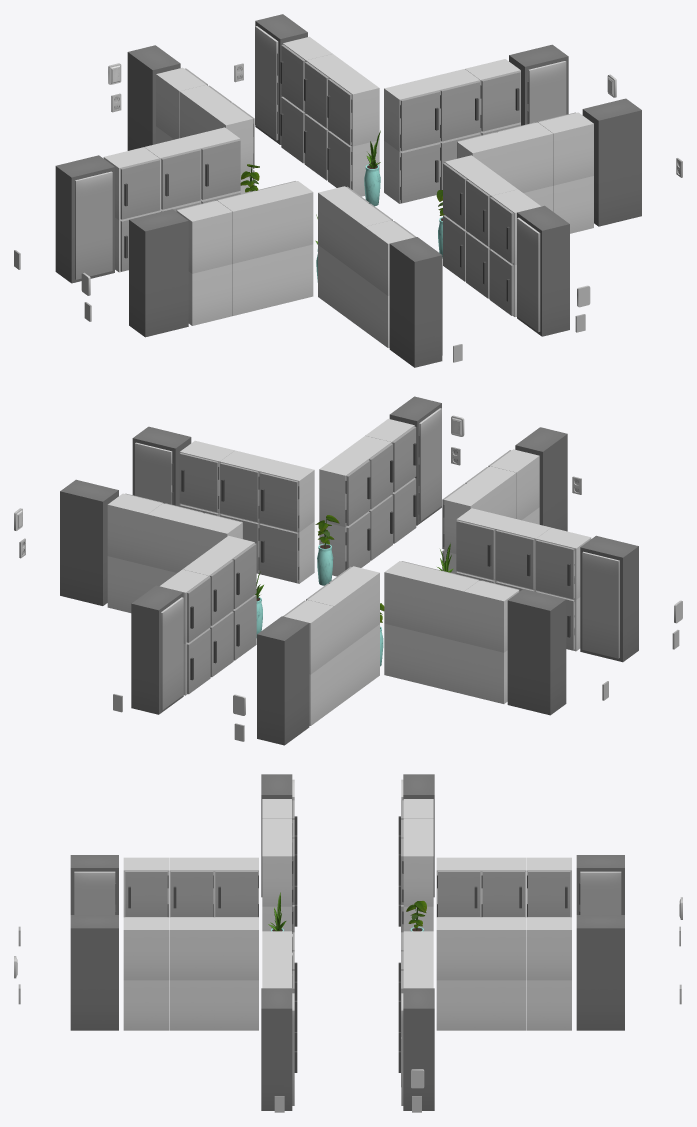
Rendered from Room14Set0.FBX.
The picture shows the model from 3 angles, top to bottom: view 1: azimuth 30°, elevation 25°; view 2: azimuth 150°, elevation 25°; view 3: azimuth 270°, elevation 25°; orthographic projection. The views are drawn at different scales.
Visible parts, largest first — view 1: chestbox134, chestbox127, chestbox141, chestbox104, chestdoor010, chestbox155, chestbox120, chestbox133, chestbox131, chestbox140, chestbox129, chestbox138 (+53 smaller); view 2: chestbox155, chestbox120, chestbox148, chestbox113, chestdoor007, chestbox134, chestbox127, chestbox154, chestbox147, chestbox150, chestbox152, chestbox145 (+53 smaller); view 3: chestbox104, chestbox113, chestbox141, chestbox148, chestbox101, chestbox103, chestbox108, chestbox099, chestbox110, chestbox112, chestbox100, chestbox102 (+36 smaller).
Boxes of the visible parts, x1,y1,x2,y2 form: chestbox134: (129, 209, 188, 337); chestbox127: (389, 237, 442, 367); chestbox141: (582, 98, 641, 226); chestbox104: (517, 205, 569, 336); chestdoor010: (75, 171, 112, 279); chestbox155: (55, 155, 114, 283); chestbox120: (127, 45, 180, 150); chestbox133: (176, 200, 232, 273); chestbox131: (217, 191, 273, 263); chestbox140: (538, 112, 593, 185); chestbox129: (258, 181, 313, 253); chestbox138: (498, 122, 553, 192); chestbox155: (507, 589, 566, 715); chestbox120: (257, 616, 309, 745); chestbox148: (60, 479, 118, 605); chestbox113: (131, 585, 183, 714); chestdoor007: (582, 551, 619, 658); chestbox134: (580, 535, 638, 662); chestbox127: (515, 427, 567, 531); chestbox154: (464, 580, 519, 652); chestbox147: (107, 493, 162, 565); chestbox150: (384, 561, 438, 633); chestbox152: (424, 570, 478, 642); chestbox145: (147, 503, 201, 572); chestbox104: (70, 915, 118, 1030); chestbox113: (576, 915, 624, 1030); chestbox141: (261, 988, 292, 1110); chestbox148: (403, 988, 434, 1110); chestbox101: (169, 917, 214, 980); chestbox103: (123, 917, 168, 980); chestbox108: (436, 917, 481, 980); chestbox099: (214, 917, 258, 980); chestbox110: (482, 917, 526, 980); chestbox112: (527, 917, 571, 980); chestbox100: (169, 980, 214, 1030); chestbox102: (123, 980, 168, 1030).
Bounding box in the file's own units: 120 × 20.38 × 120.
